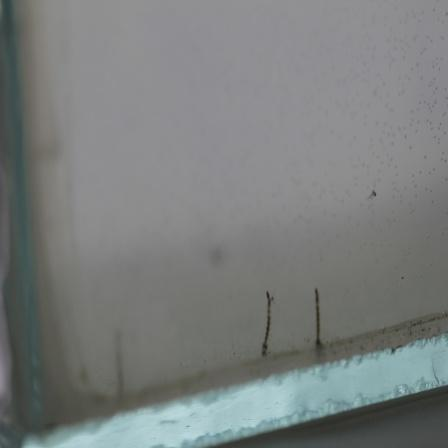Jentik-Nyamuk: (259, 284, 279, 356), (308, 284, 329, 349)
